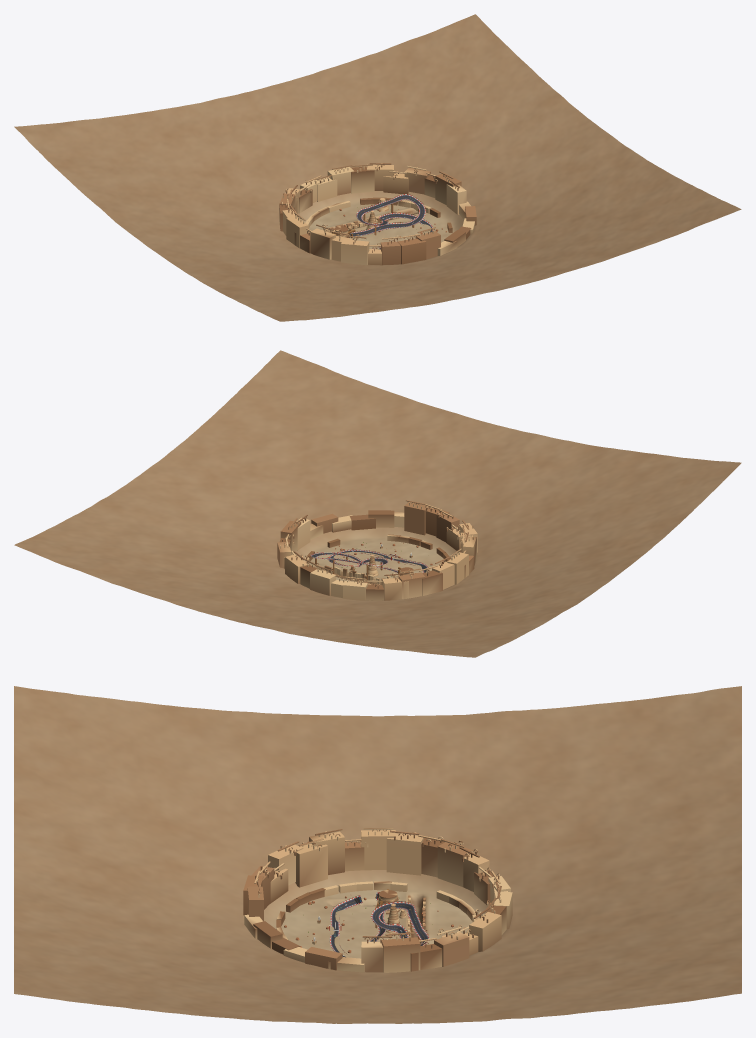
Rendered from app4-circuit.glb.
3 renders of one model, top to bottom at view 1: azimuth 30°, elevation 25°; view 2: azimuth 150°, elevation 25°; view 3: azimuth 270°, elevation 25°, orthographic. The views are drawn at different scales.
Visible parts, largest first — view 1: SUNSTONE / desert ground, SUNSTONE / baked scenery, SUNSTONE / road surface; view 2: SUNSTONE / desert ground, SUNSTONE / baked scenery, SUNSTONE / road surface; view 3: SUNSTONE / desert ground, SUNSTONE / baked scenery, SUNSTONE / road surface.
Part boxes in pixels (x1,y1,x2,y2): SUNSTONE / desert ground: (14,14,741,321); SUNSTONE / baked scenery: (279,163,476,265); SUNSTONE / road surface: (350,195,432,249); SUNSTONE / desert ground: (14,350,741,657); SUNSTONE / baked scenery: (277,500,477,600); SUNSTONE / road surface: (311,550,427,572); SUNSTONE / desert ground: (14,686,741,1023); SUNSTONE / baked scenery: (243,828,512,972); SUNSTONE / road surface: (331,893,428,957).
Bounding box in the file's own units: 940 × 148 × 940.
Materials: 23 (8 with a texture image).
